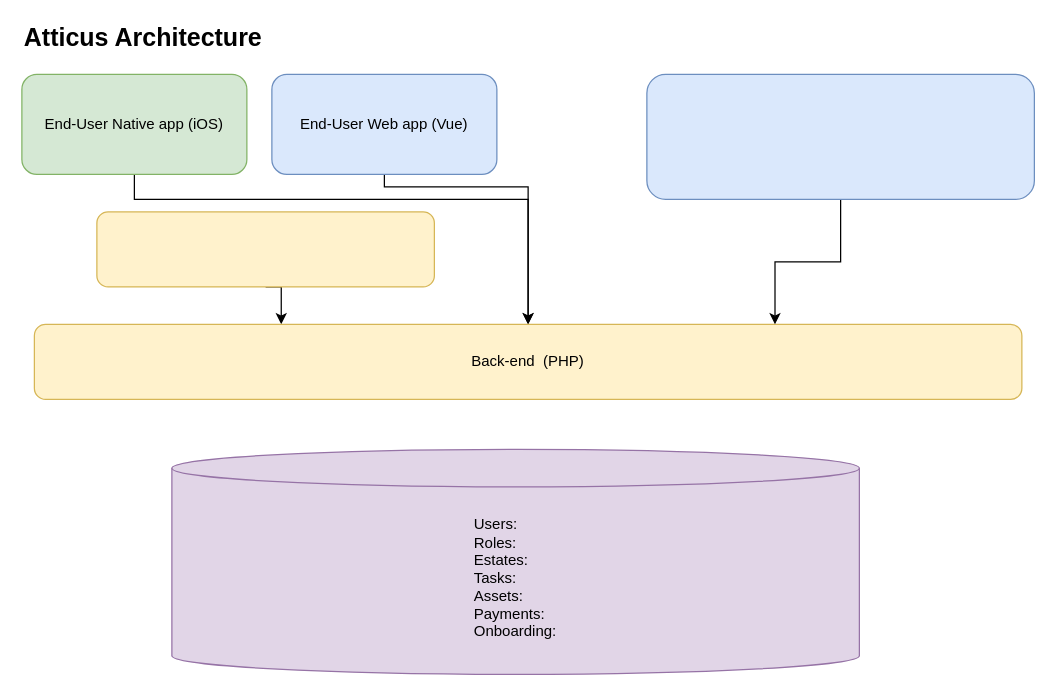
Some shapes in this 1056 by 696 pixel diagram are drawn without their labels. Each missing label, with the centre of its shape:
Admin app (PHP): point (265, 249)
Advisor web app (React): point (840, 136)
